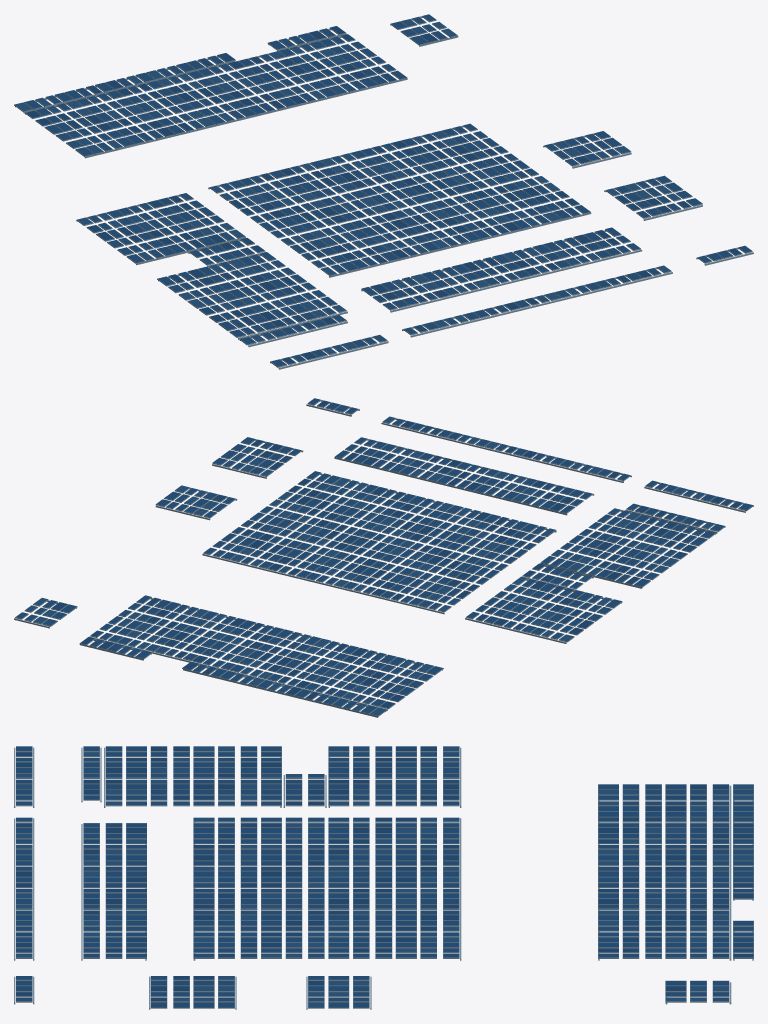
Rendered from SM_MPRH_SolarBank_01_1.fbx.
3 renders of one model, top to bottom at view 1: azimuth 30°, elevation 25°; view 2: azimuth 150°, elevation 25°; view 3: azimuth 270°, elevation 25°, orthographic. The views are drawn at different scales.
Parts seen in each view (by area): view 1: SM_MPRH_SolarBank_01_1; view 2: SM_MPRH_SolarBank_01_1; view 3: SM_MPRH_SolarBank_01_1.
Boxes of the visible parts, bbox=[...] form: SM_MPRH_SolarBank_01_1: bbox=[14, 14, 753, 369]; SM_MPRH_SolarBank_01_1: bbox=[14, 398, 753, 717]; SM_MPRH_SolarBank_01_1: bbox=[14, 746, 753, 1009].
Bounding box in the file's own units: 5368 × 6420 × 24.6.
